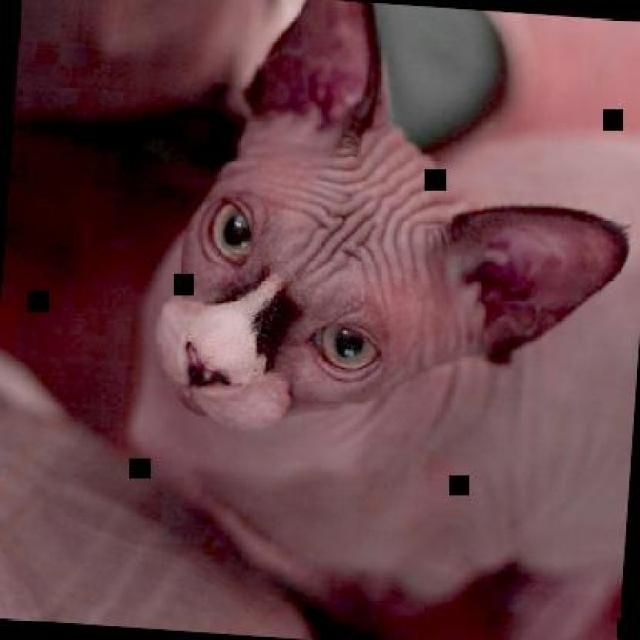cat: (132, 0, 638, 638)
